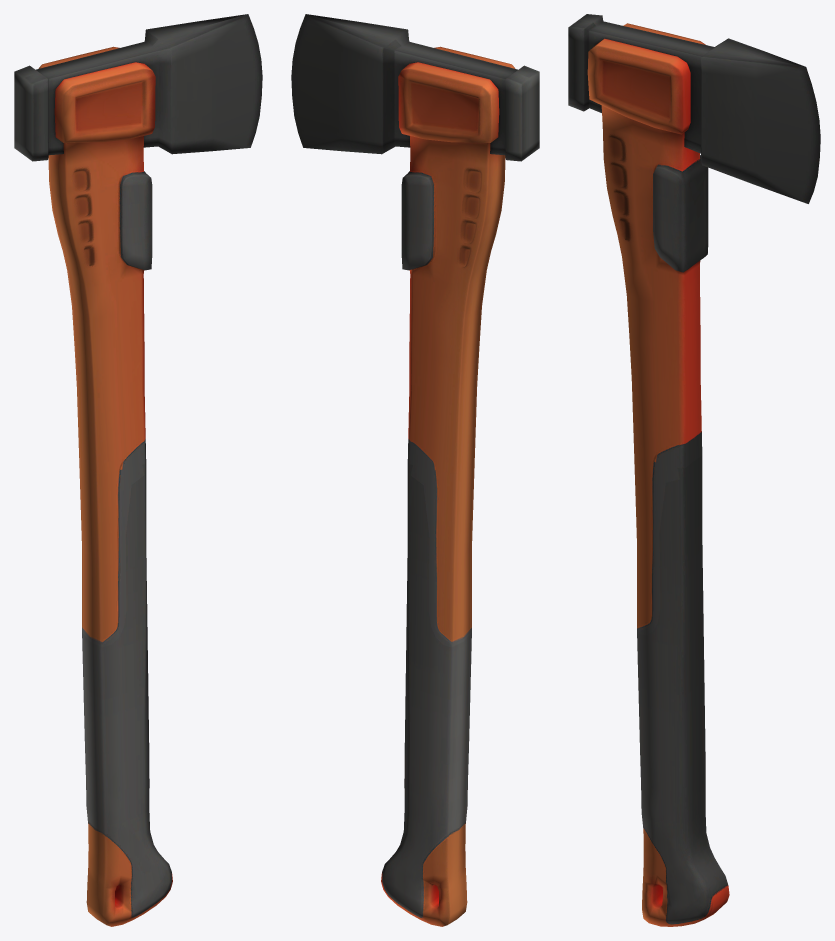
The model's file is CompositeAxe.glb.
3 renders of one model, left to right at view 1: azimuth 30°, elevation 25°; view 2: azimuth 150°, elevation 25°; view 3: azimuth 330°, elevation 25°, orthographic.
Parts seen in each view (by area): view 1: CompositeAxe_LOD0; view 2: CompositeAxe_LOD0; view 3: CompositeAxe_LOD0.
Part boxes in pixels (box(x1,y1,x2,y2)): CompositeAxe_LOD0: box(14, 14, 262, 926); CompositeAxe_LOD0: box(291, 14, 539, 926); CompositeAxe_LOD0: box(568, 14, 820, 926).
Size of what is drawn, in the model's own units: 0.2069 by 0.7208 by 0.0469.
Materials: 1 (1 with a texture image).
